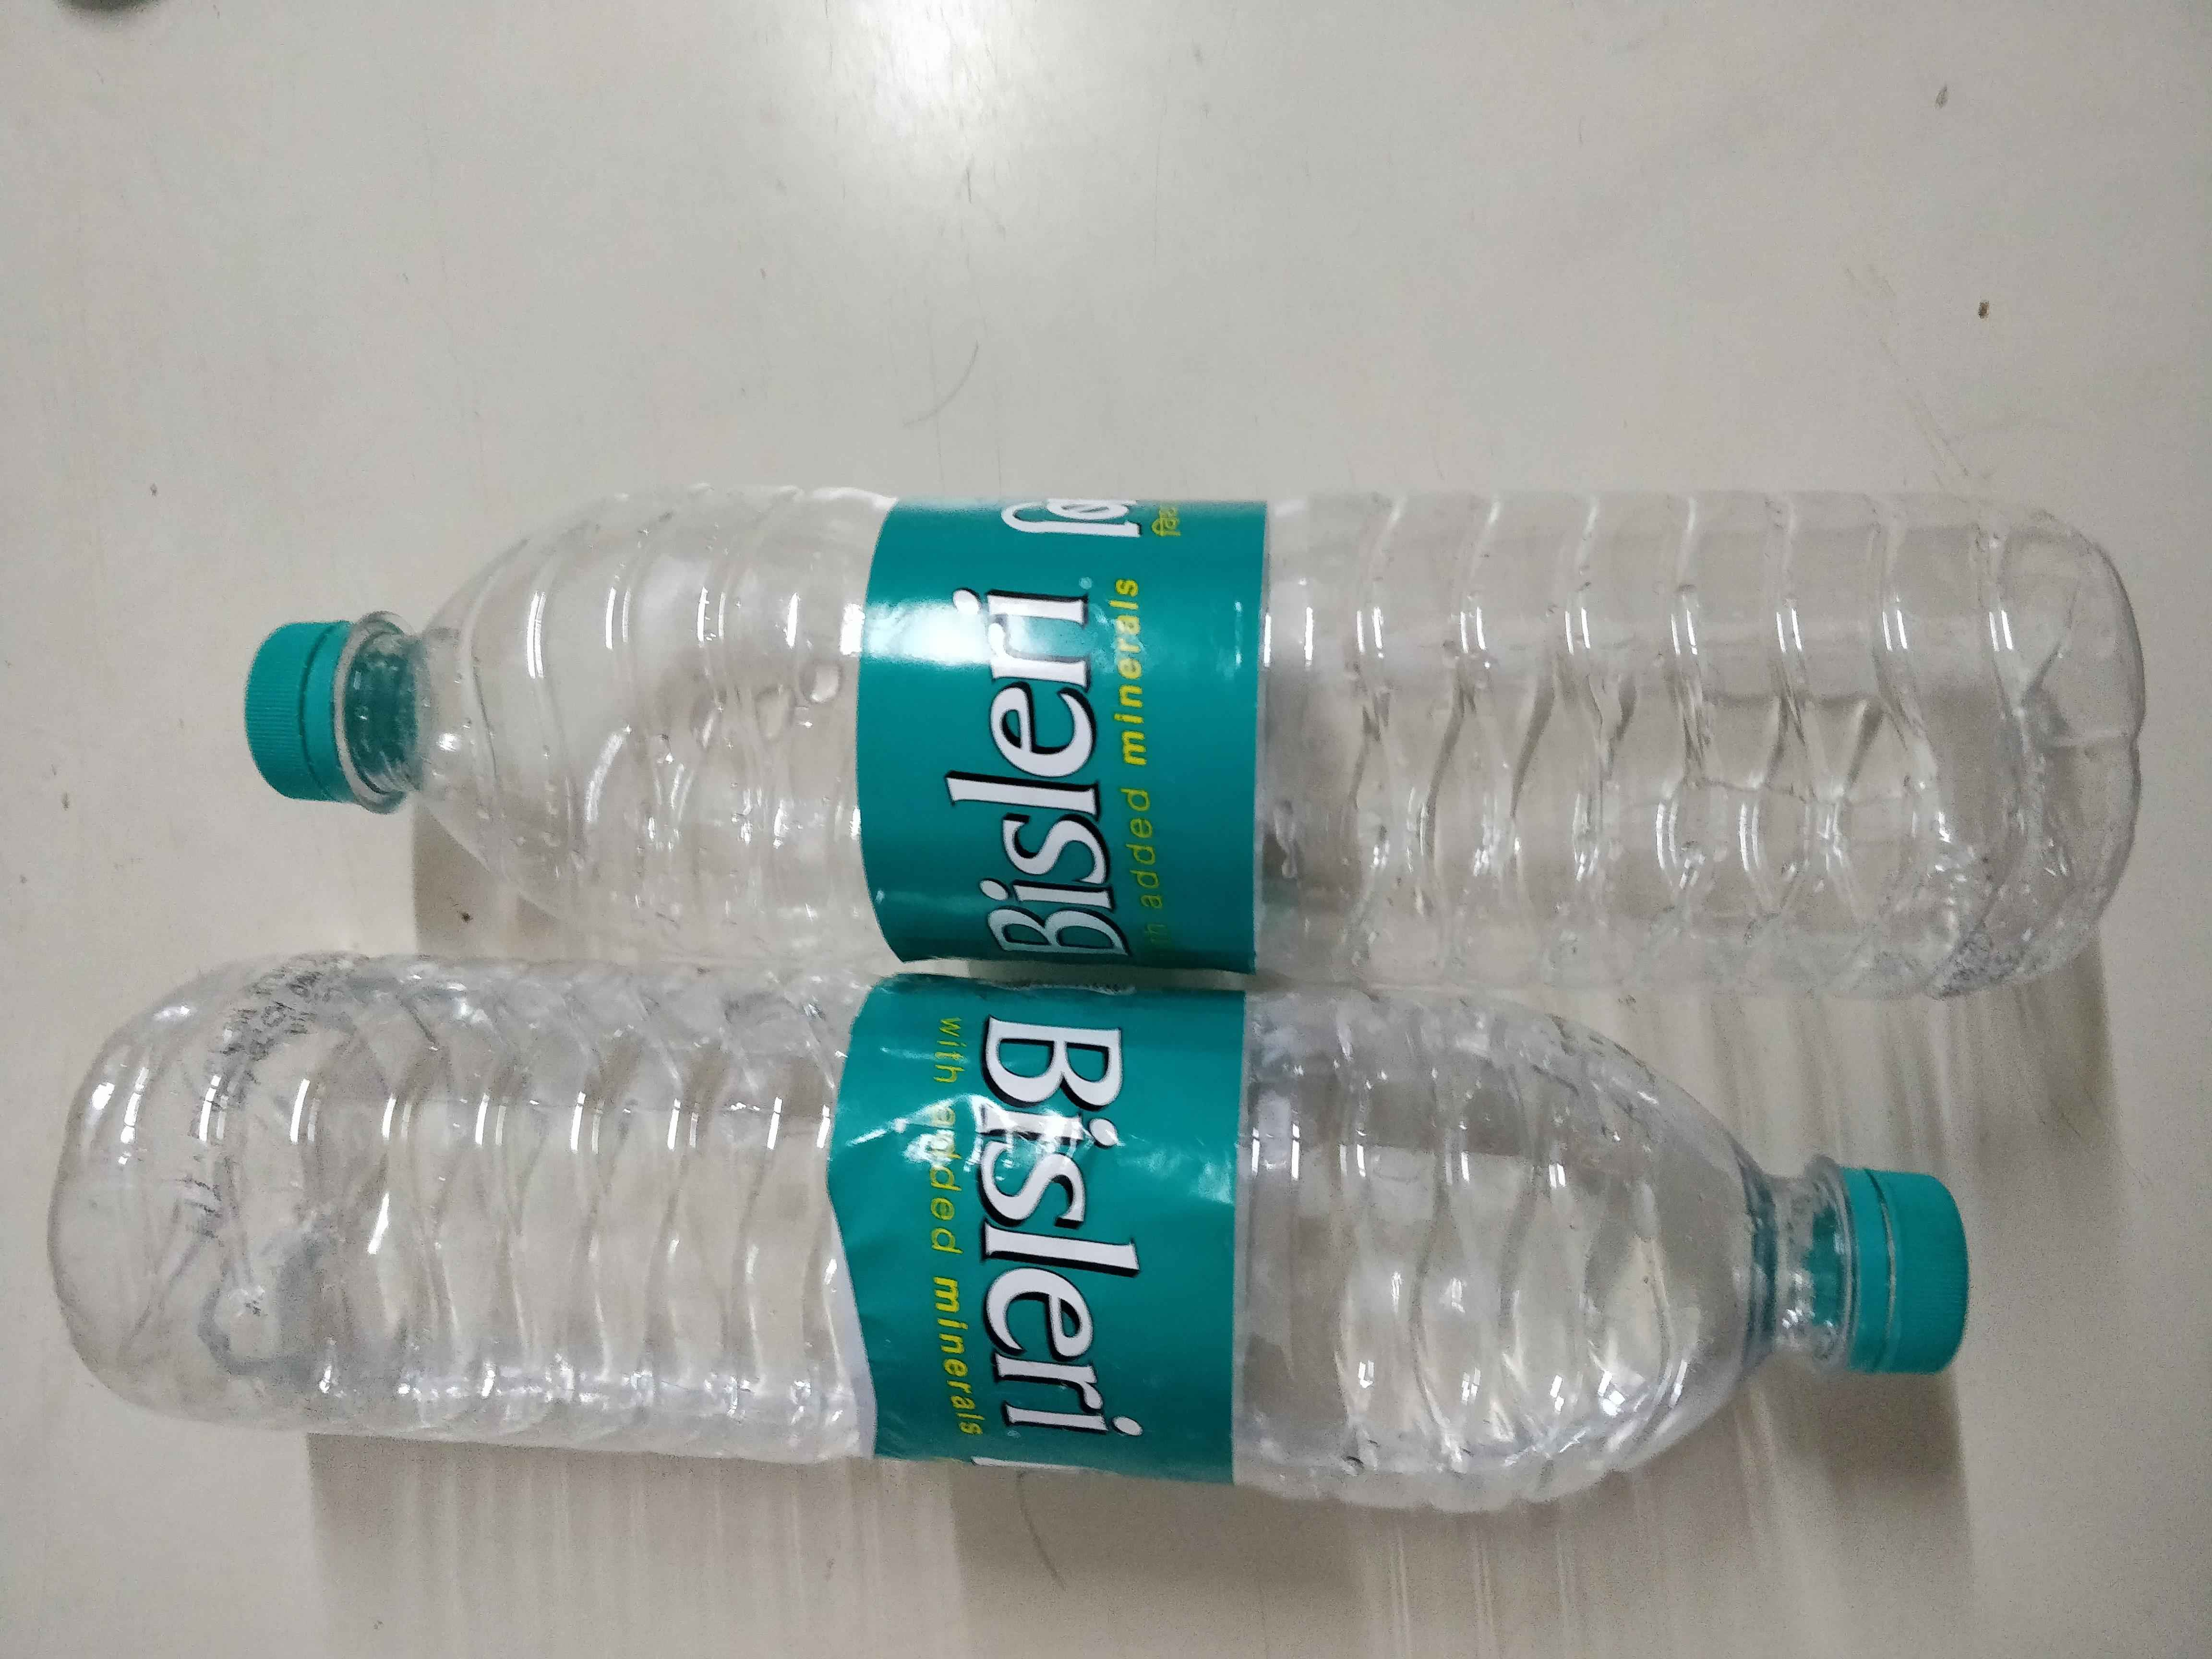Bisleri: (892, 969, 1221, 1495), (911, 497, 1252, 964)
